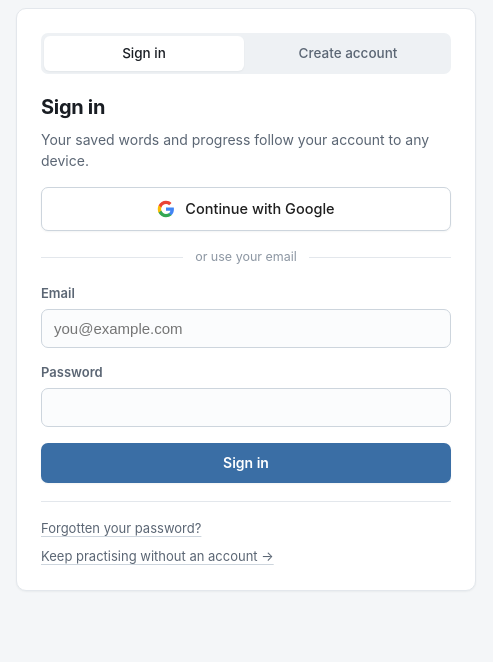
Test case: AccountPage — signed out › reports a failed sign-in instead of appearing to do nothing
Type "learner@example.com" into the field labelled "Email" at (246,328), box [41,309,451,348]
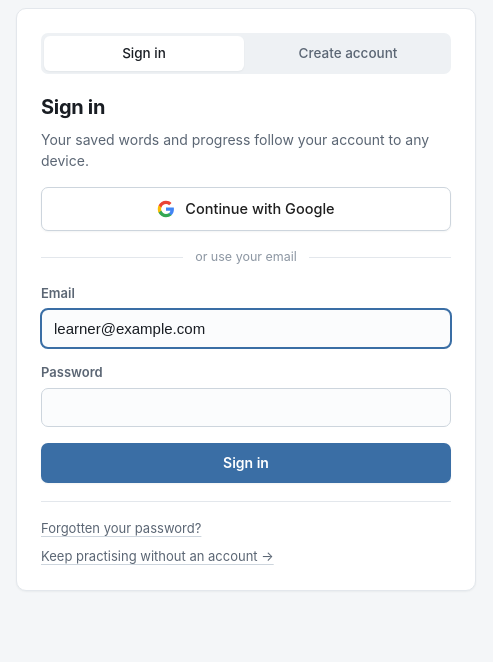
Type "wrong" into the password field labelled "Password" at (246,408), box [41,388,451,427]
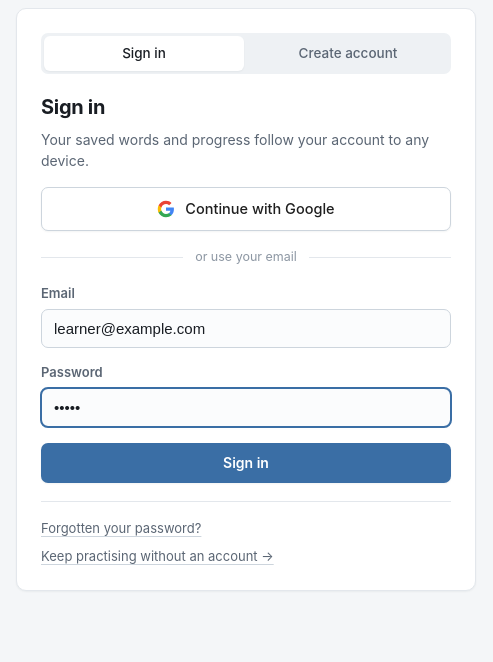
Click the button "Sign in" at (246,463), box [41,443,451,483]
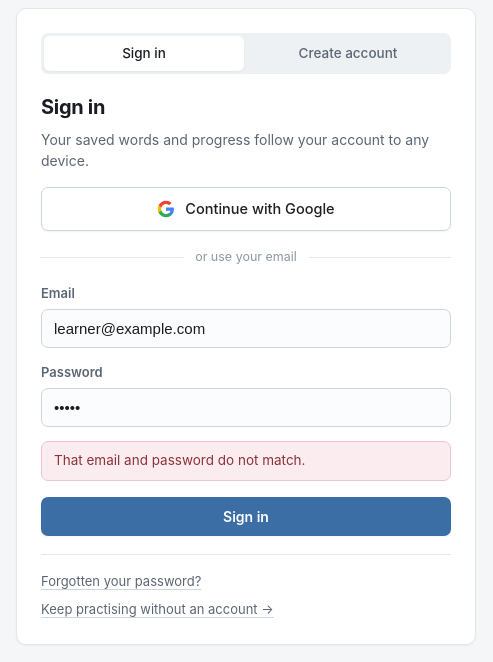
expect the text "That email and password do not match." is shown: met, box [41,441,451,481]
